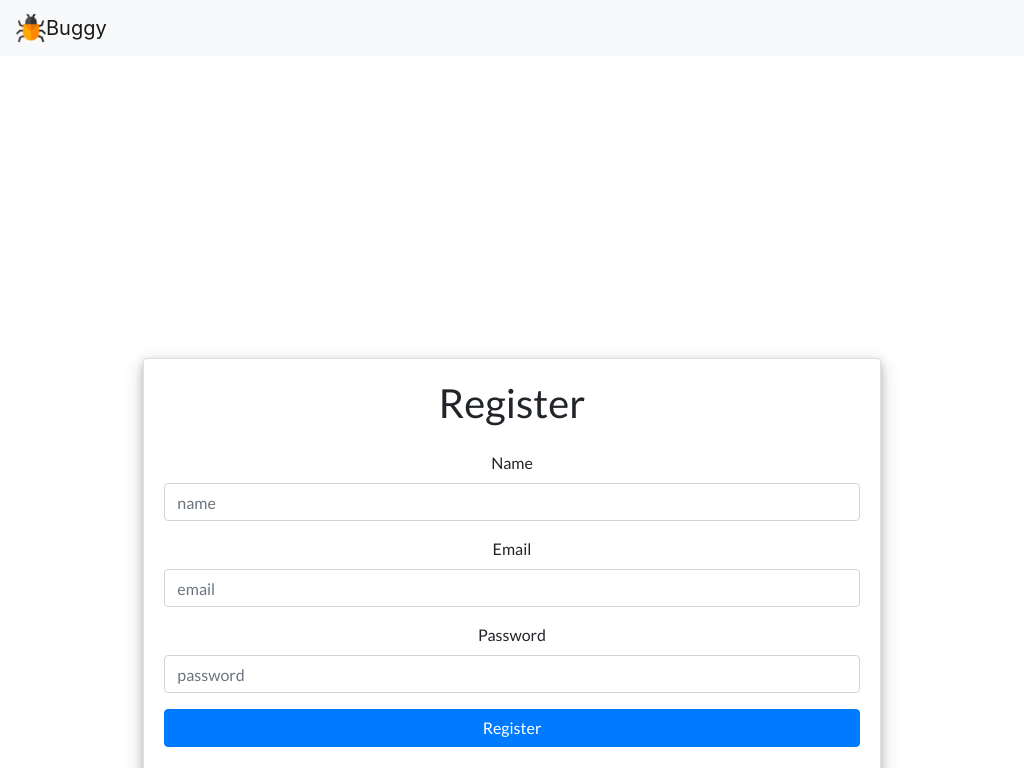
Test: renders the login page › returns error if to wrong password
This screenshot has width=1024, height=768.
Type "asdf" into the field with placeholder "name" at {"x": 512, "y": 502}, box left=164, top=483, right=859, bottom=521
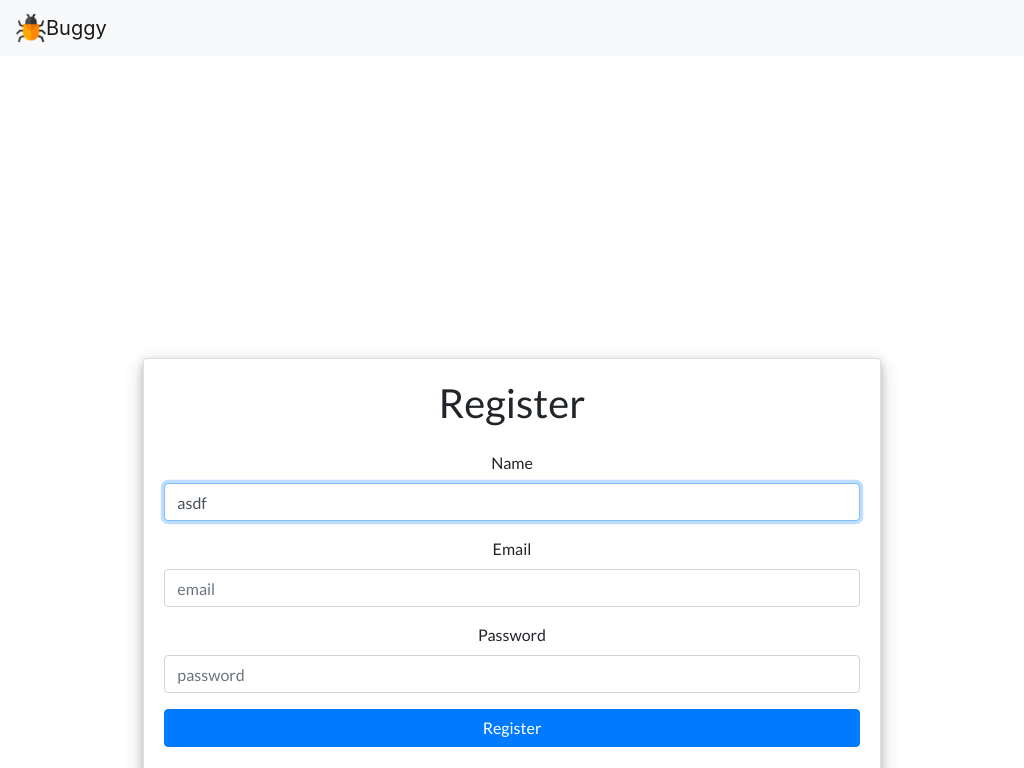
Type "asdas@.sdihj2.pl" into the field with placeholder "email" at {"x": 512, "y": 588}, box left=164, top=569, right=859, bottom=607
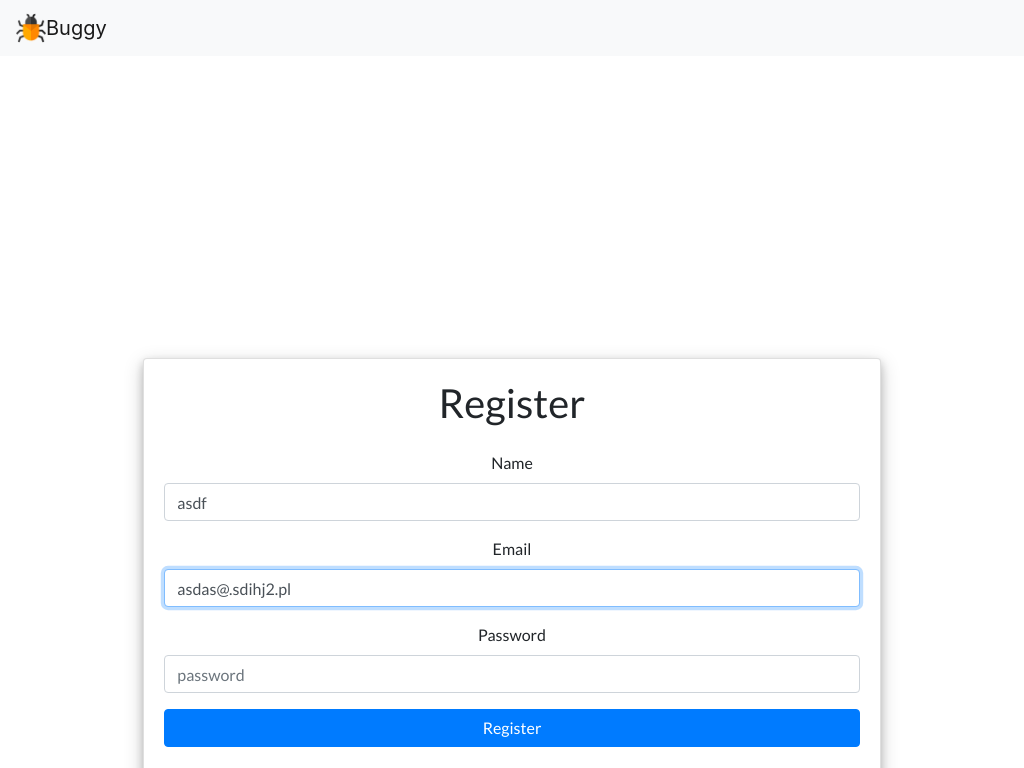
Type "a" into the password field with placeholder "password" at {"x": 512, "y": 674}, box left=164, top=655, right=859, bottom=693
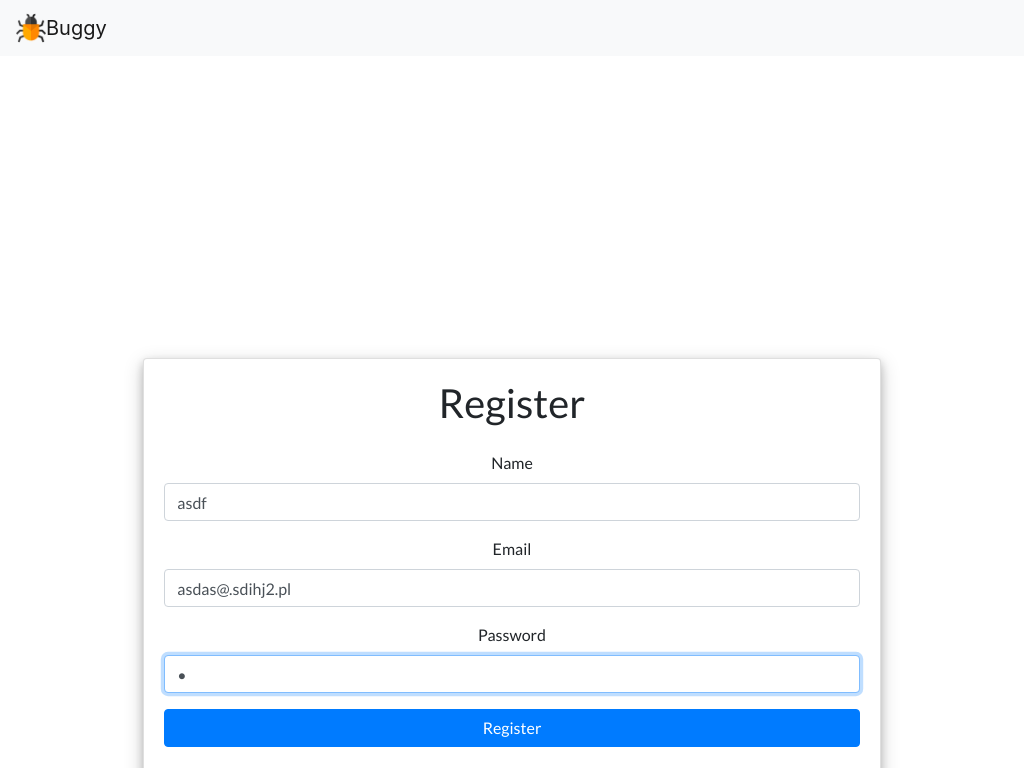
Click the button "Register" at {"x": 512, "y": 728}, box left=164, top=709, right=859, bottom=747
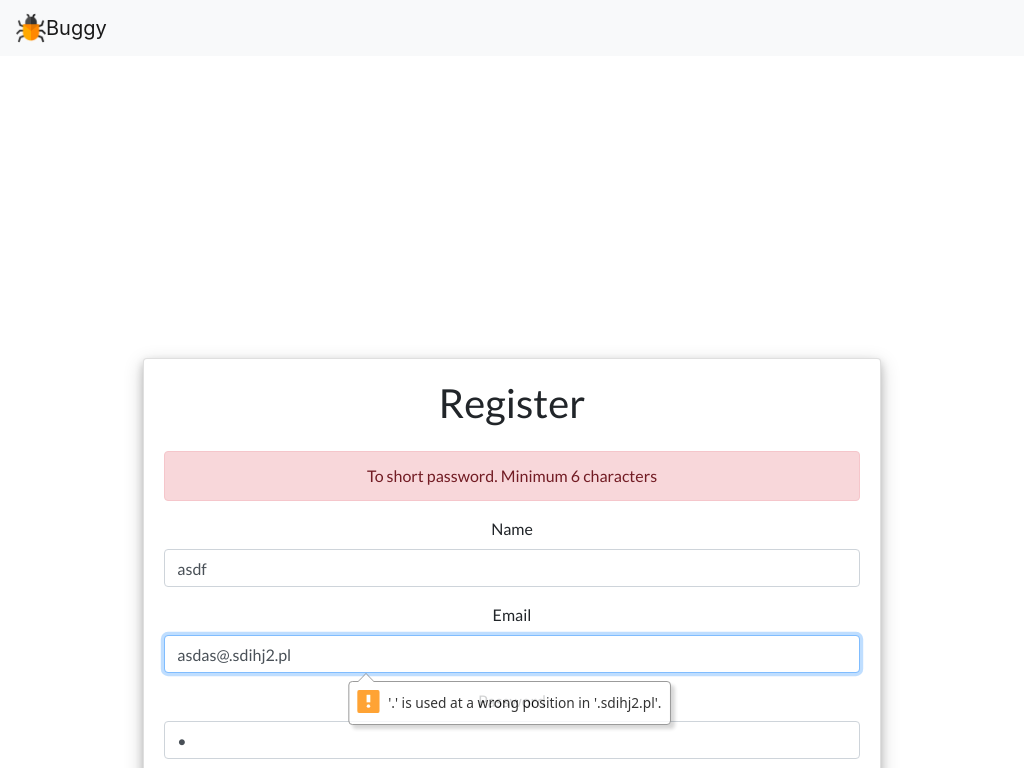
Expected: the text "To short password. Minimum 6 characters" is shown, left=164, top=451, right=860, bottom=501
